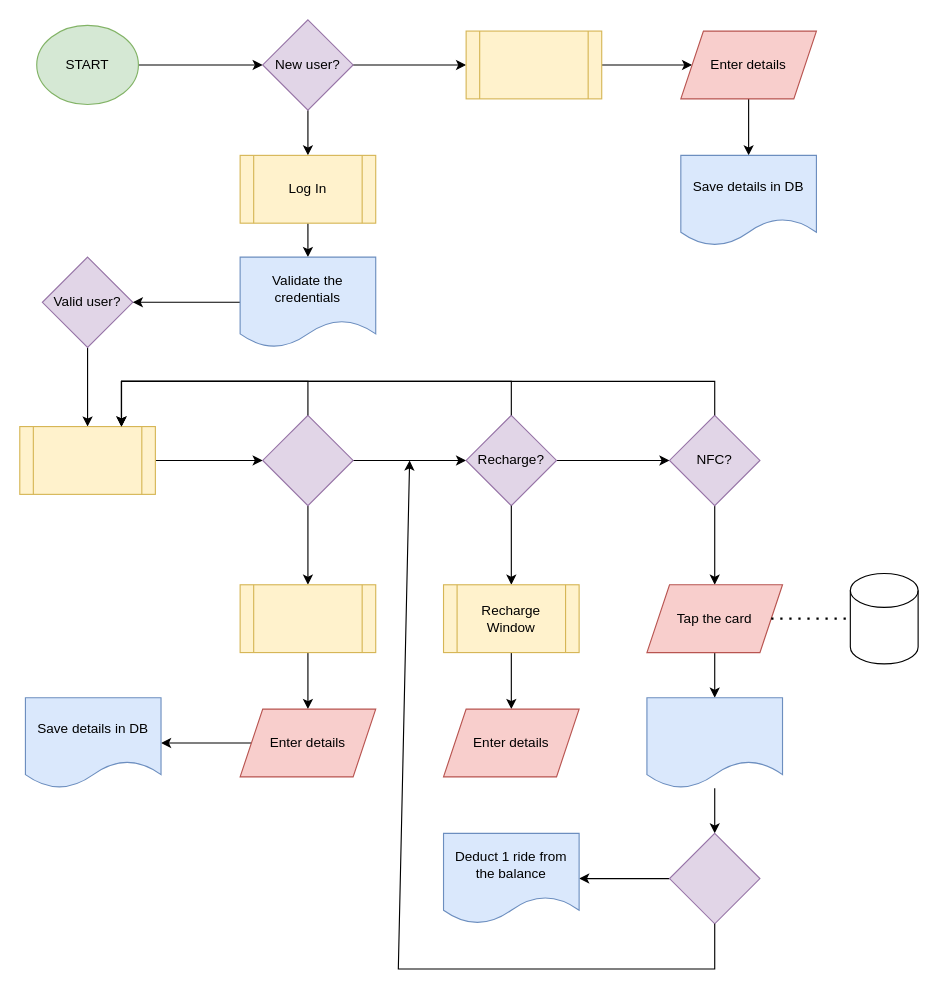
Some shapes in this 938 by 998 pixel diagram are drawn without their labels. The box of each missing label's shape, as (x1, y1, x2, y2) in pixels:
Bus System: (849, 572, 918, 664)
Edit A/c?: (262, 414, 353, 506)
Edit Account Window: (239, 584, 376, 653)
Home Page: (19, 425, 155, 494)
Sign up: (465, 30, 602, 99)
Sufficient rides?: (668, 832, 760, 924)
Verify the amount of rides remaining: (646, 697, 783, 788)
